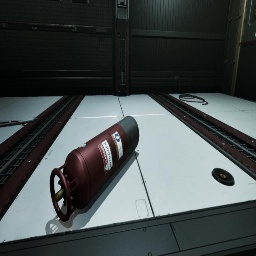NitrogenTank ,: (50, 116, 139, 222)
